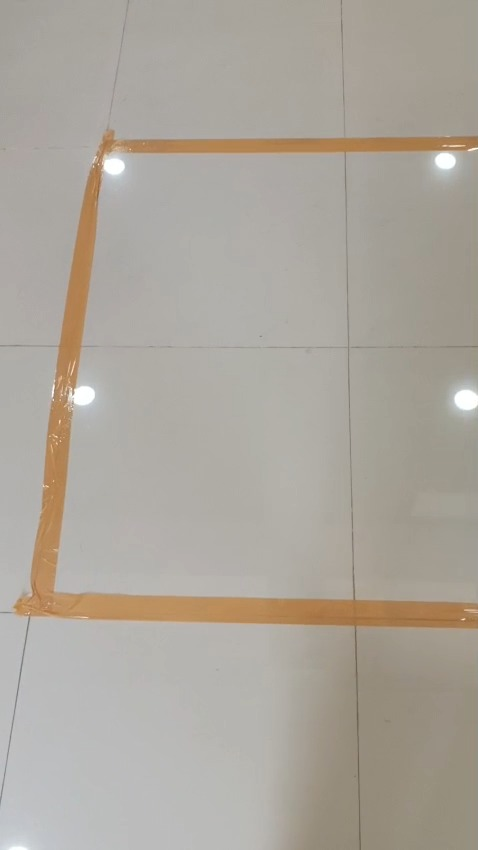floor marking: (15, 129, 477, 628), (265, 147, 266, 147)
